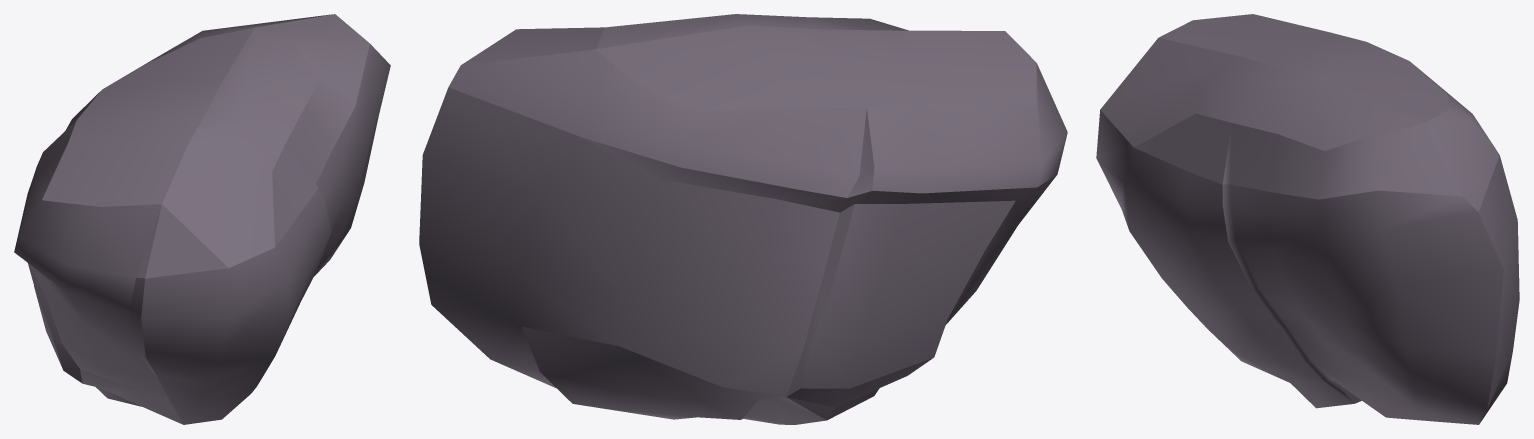
File: P_stone_03_LD.fbx
3 views of the same model, side by side, from view 1: azimuth 30°, elevation 25°; view 2: azimuth 150°, elevation 25°; view 3: azimuth 270°, elevation 25° (orthographic). The views are drawn at different scales.
Visible parts, largest first — view 1: P_stone_03; view 2: P_stone_03; view 3: P_stone_03.
Boxes of the visible parts, <box> form: P_stone_03: <box>14,14,390,424</box>; P_stone_03: <box>419,14,1067,424</box>; P_stone_03: <box>1096,14,1519,424</box>.
Bounding box in the file's own units: 633 × 467 × 531.
Materials: 1 (1 with a texture image).
